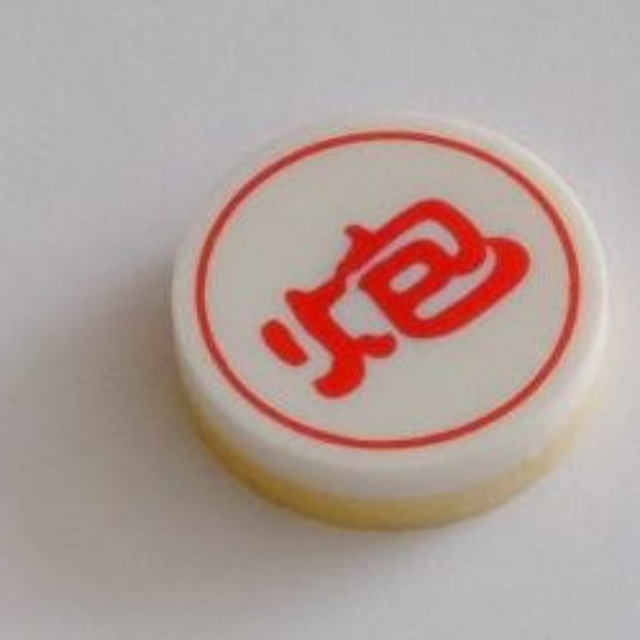red_phao: (174, 107, 617, 538)
